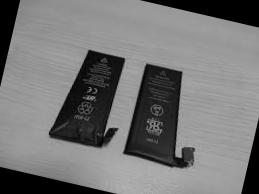battery: (32, 18, 152, 172), (106, 41, 228, 189)
